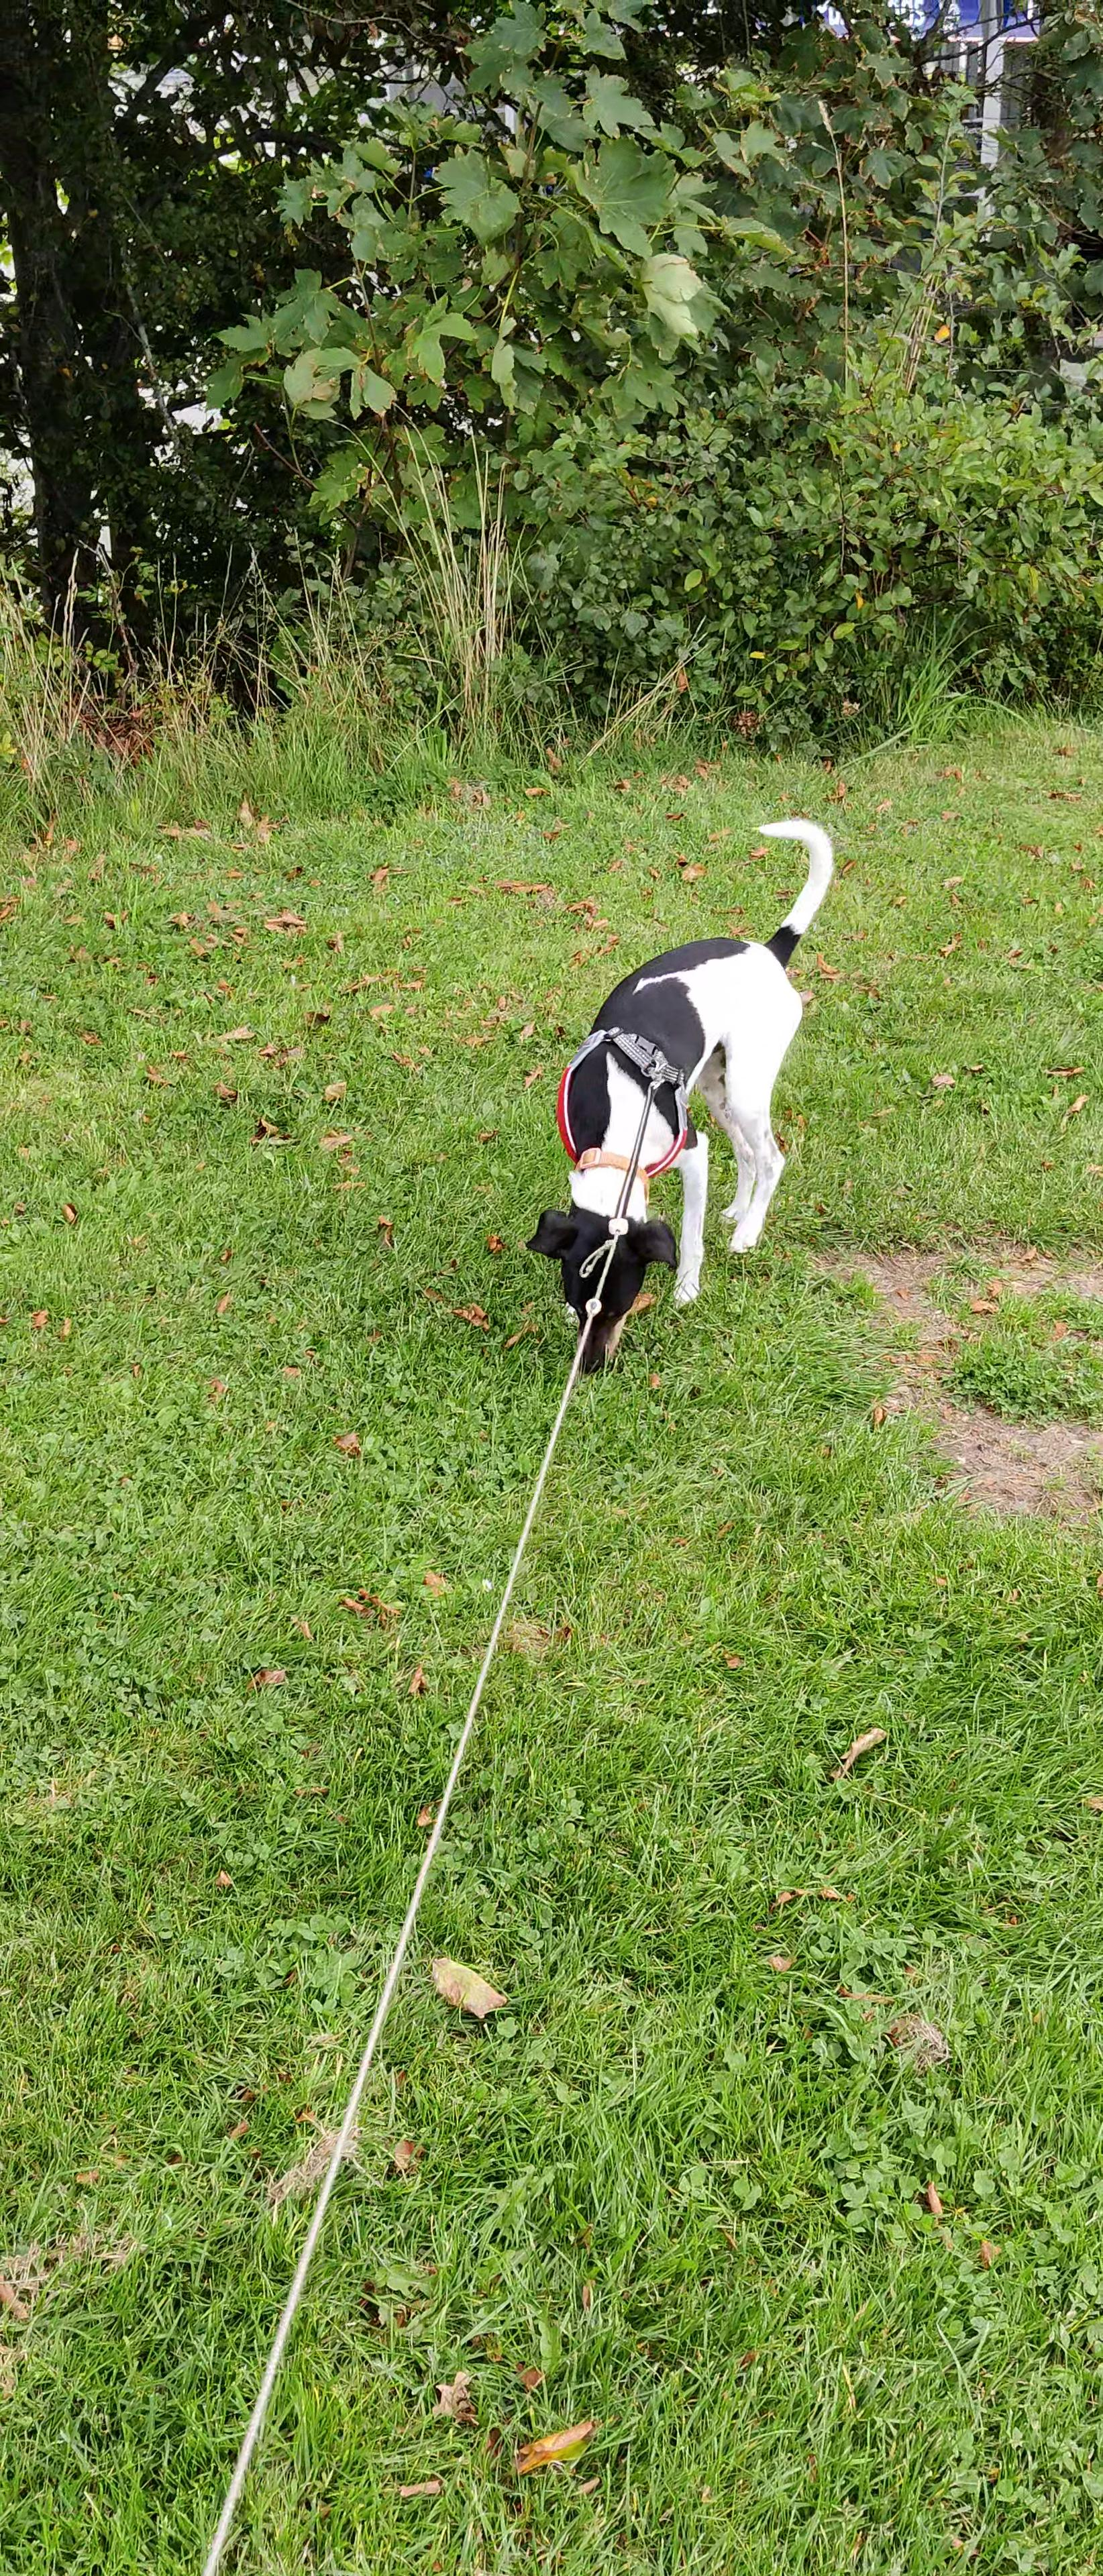Dog: (521, 815, 840, 1377)
